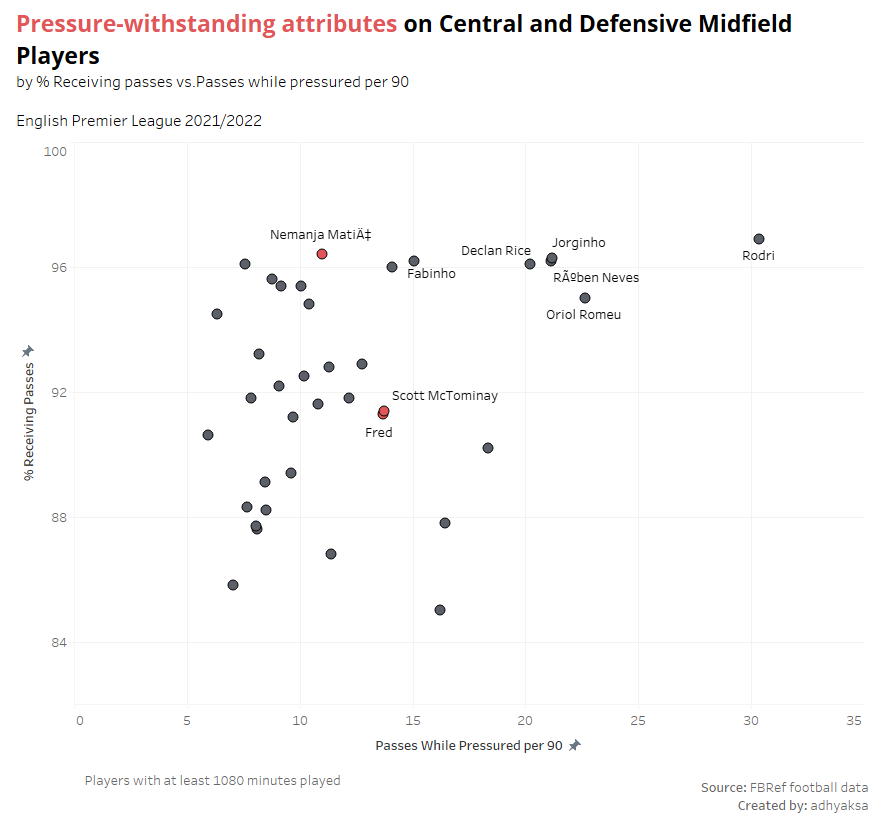

The dashboard page shown, as its layout file describes it:
{"tool":"tableau","page":{"name":"Dashboard 6","canvas":[1000,1000],"units":"permille","ordinal":5},"visuals":[{"type":"worksheet","title":"Sheet 5","mark":"Circle","rows":["pass_per100"],"cols":["passes_under_pressure_per90"],"box":[149.6,50.5,473.5,881.3]},{"type":"text","box":[187.5,933,284.1,42.3]}]}

Visuals, with their boxes on the dashboard's canvas, which has no fixed pixel size, in thousandths of its width and height (x1, y1, x2, y2). These are canvas units, not pixel positions in the 882x822 screenshot, which may show the page scaled, cropped or inside an application window:
"Sheet 5" worksheet (Circle marks): x1=150 y1=50 x2=623 y2=932
text: x1=188 y1=933 x2=472 y2=975
